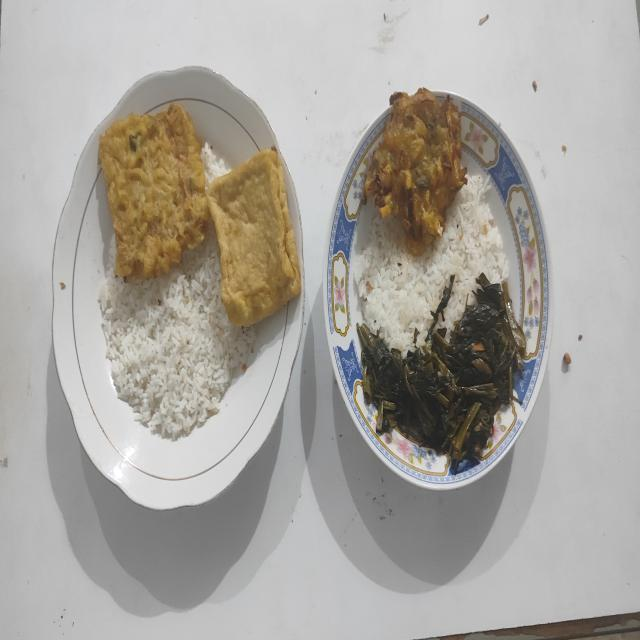nasi_putih: (98, 234, 256, 441), (354, 176, 509, 352), (200, 142, 230, 186)
tahu_goreng: (206, 147, 301, 326)
tumis_kangkung: (358, 273, 526, 474)
